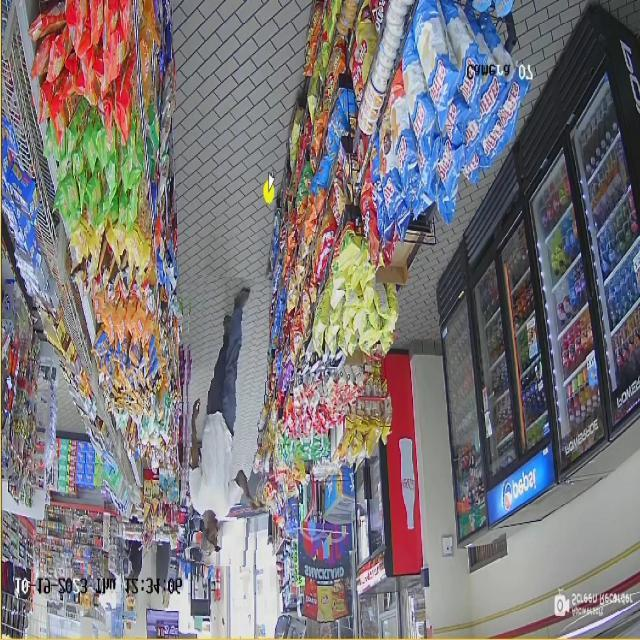Normal: (181, 276, 269, 566)
